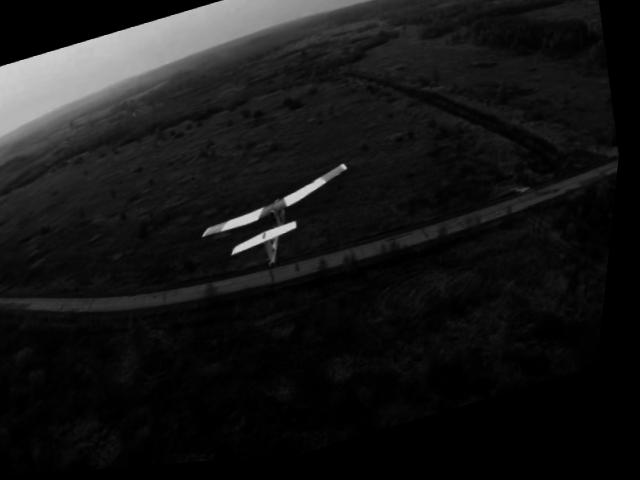hedef: (190, 155, 381, 298)
